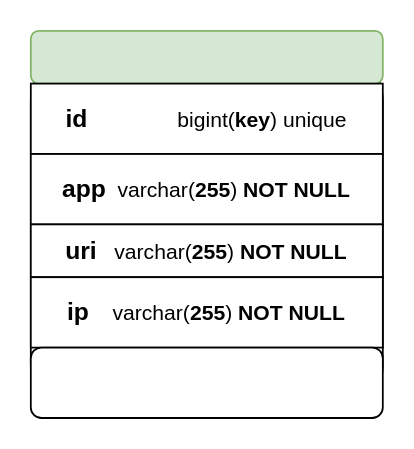
This 414x449 diagram has some shape labels left out. The box of each missing label's shape, as (x1, y1, x2, y2) in pixels:
stats: (29, 29, 383, 84)
timestamp timestamp WITHOUT TIME ZONE: (29, 346, 383, 418)
